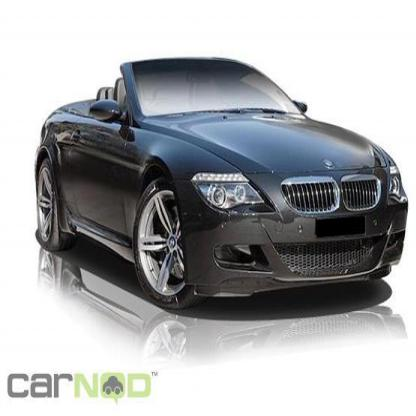Vehicle: (34, 57, 410, 314)
